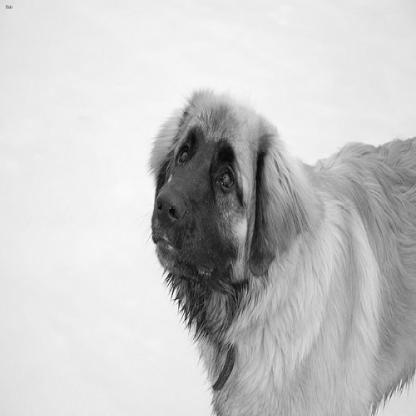Leonberger: (123, 65, 324, 347)
